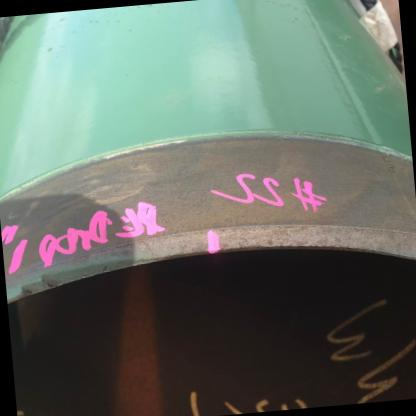Bevel: (34, 262, 67, 296), (15, 280, 31, 304)
